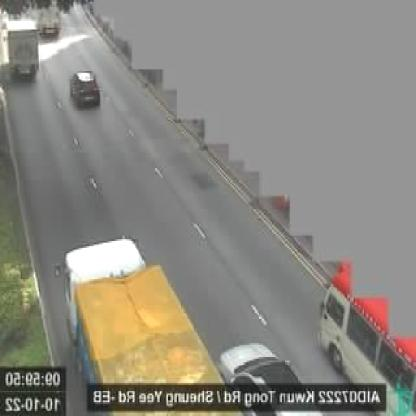Car: (316, 265, 416, 407), (213, 336, 316, 406), (70, 70, 100, 108)
Truck: (67, 231, 220, 416), (5, 13, 37, 82)
